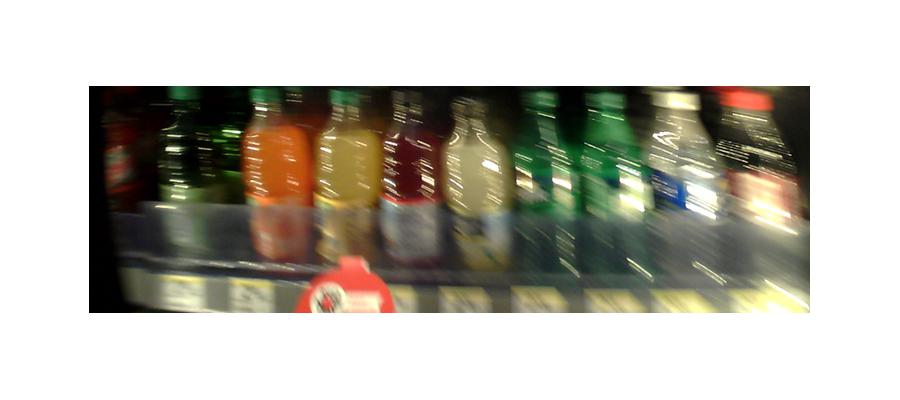bottle: (717, 91, 798, 293), (584, 79, 652, 298), (519, 78, 583, 296), (311, 92, 382, 287), (650, 89, 721, 280), (242, 95, 313, 267), (445, 91, 509, 280), (380, 98, 444, 275), (153, 121, 228, 272)
